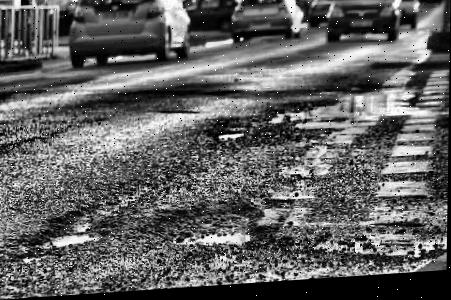pothole: (277, 92, 426, 132), (158, 206, 263, 254), (25, 203, 111, 251), (215, 132, 245, 145)
